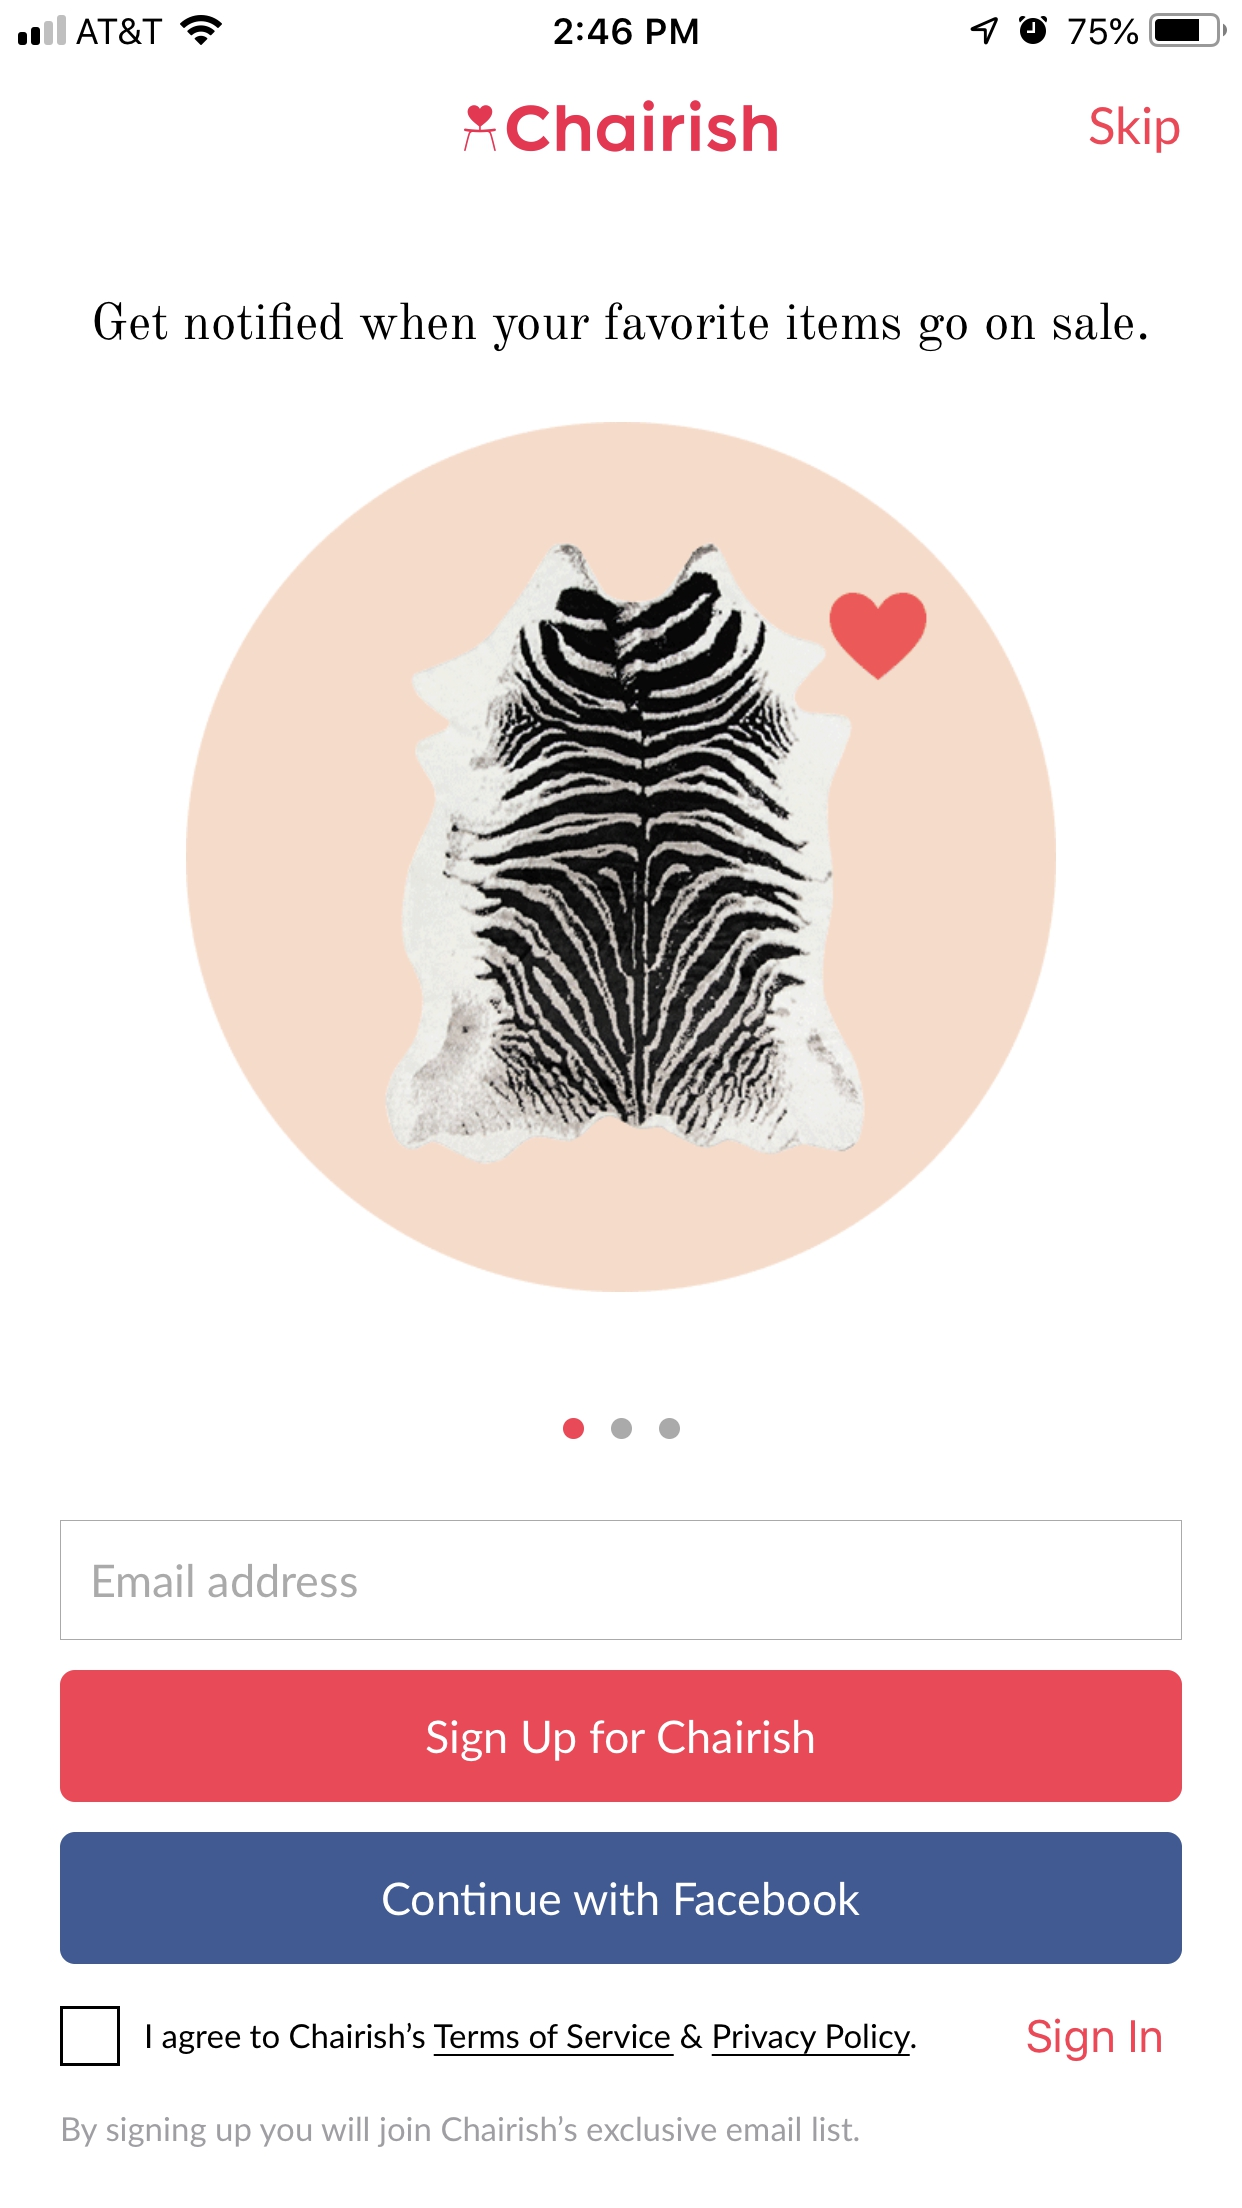CheckedTextView: (61, 2005, 917, 2065)
EditText: (61, 1520, 1181, 1639)
Image: (185, 422, 1059, 1294), (463, 105, 497, 153)
PageIndicator: (563, 1418, 681, 1441)
Text: (94, 300, 1146, 353), (147, 2021, 917, 2056), (64, 2117, 858, 2147), (507, 100, 779, 155), (96, 1563, 358, 1598), (1027, 2017, 1162, 2062), (1089, 106, 1180, 155)
TextButton: (61, 1830, 1183, 1965), (61, 1670, 1183, 1803)
UpperTaskBar: (2, 2, 1242, 49)
